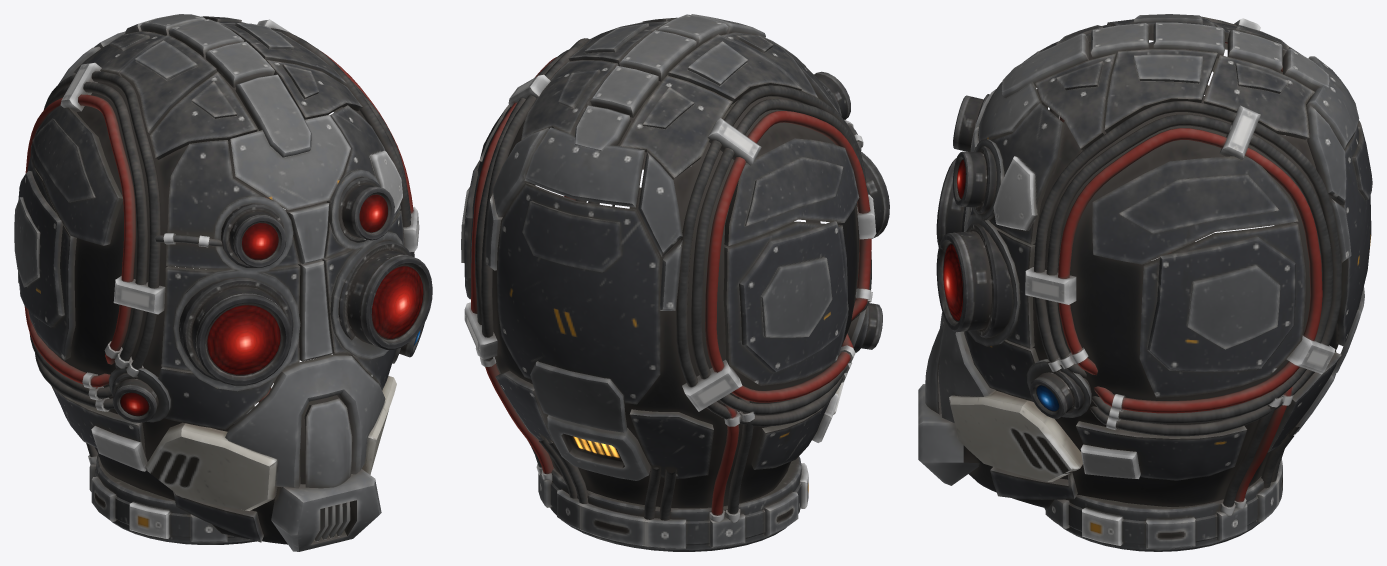
File: red_witness_helmet_d0_lod0.glb
3 views of the same model, side by side, from view 1: azimuth 30°, elevation 25°; view 2: azimuth 150°, elevation 25°; view 3: azimuth 270°, elevation 25° (orthographic). The views are drawn at different scales.
Visible parts, largest first — view 1: PART_SHELL; view 2: PART_SHELL; view 3: PART_SHELL.
Boxes of the visible parts, left/top/right/bottom form: PART_SHELL: left=14, top=14, right=432, bottom=551; PART_SHELL: left=461, top=14, right=889, bottom=551; PART_SHELL: left=918, top=14, right=1372, bottom=551.
Bounding box in the file's own units: 0.2648 × 0.3401 × 0.3002.
1 material, 1 textured.
